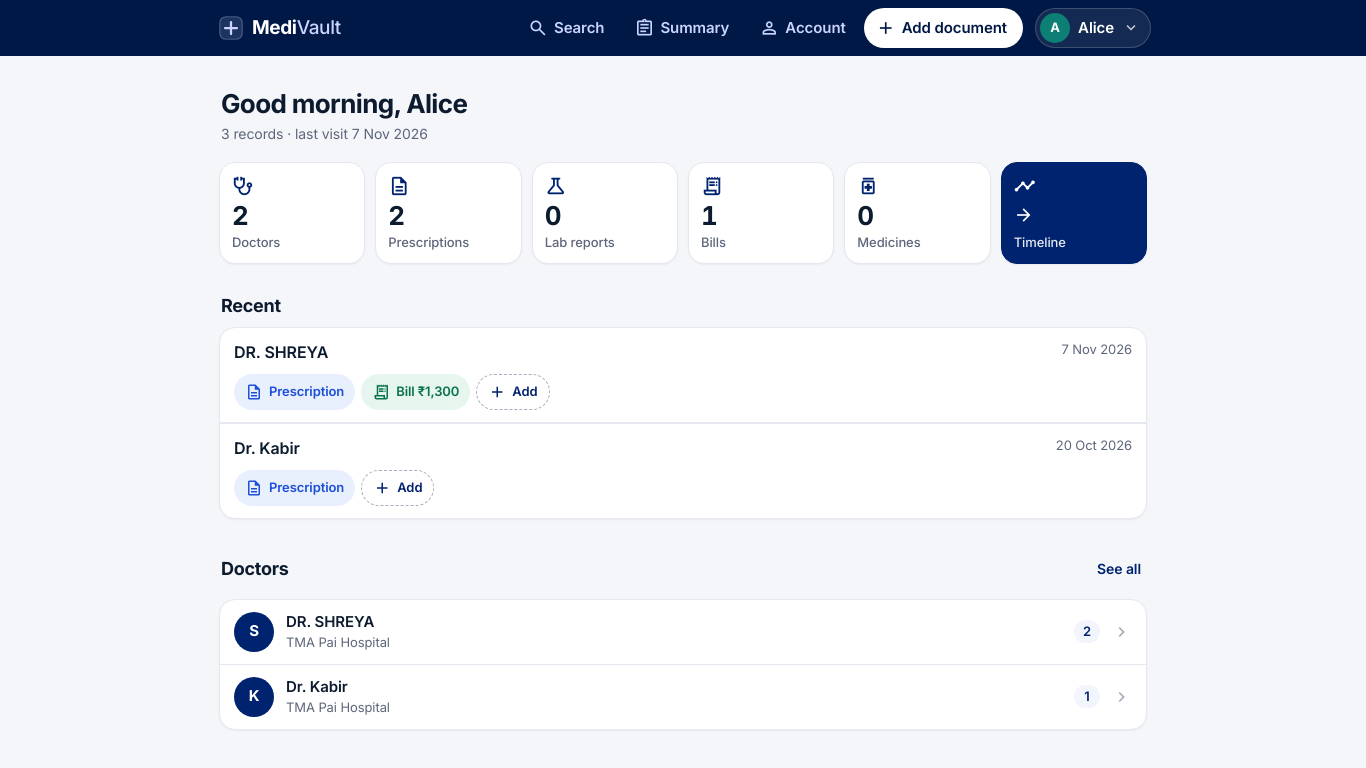
it: an open document shows what else came from the same visit and opens it
What coordinates should you click on to do the following:
click the button with aria-label "prescription, dr. shreya"
I would click on:
 (295, 392)
Its box is left=234, top=374, right=355, bottom=410.
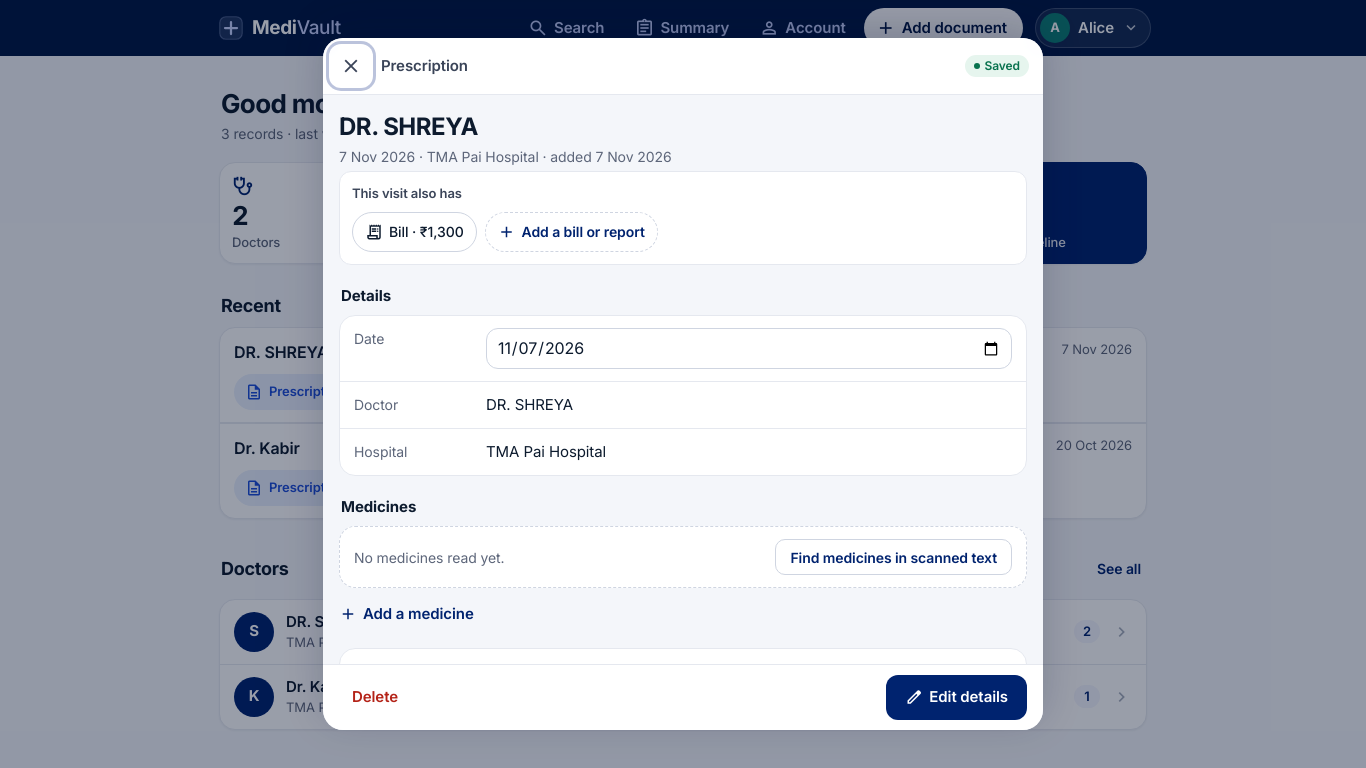
What coordinates should you click on to do the following:
click the button "Bill · ₹1,300"
I would click on:
 (414, 232)
Its box is left=352, top=212, right=477, bottom=252.
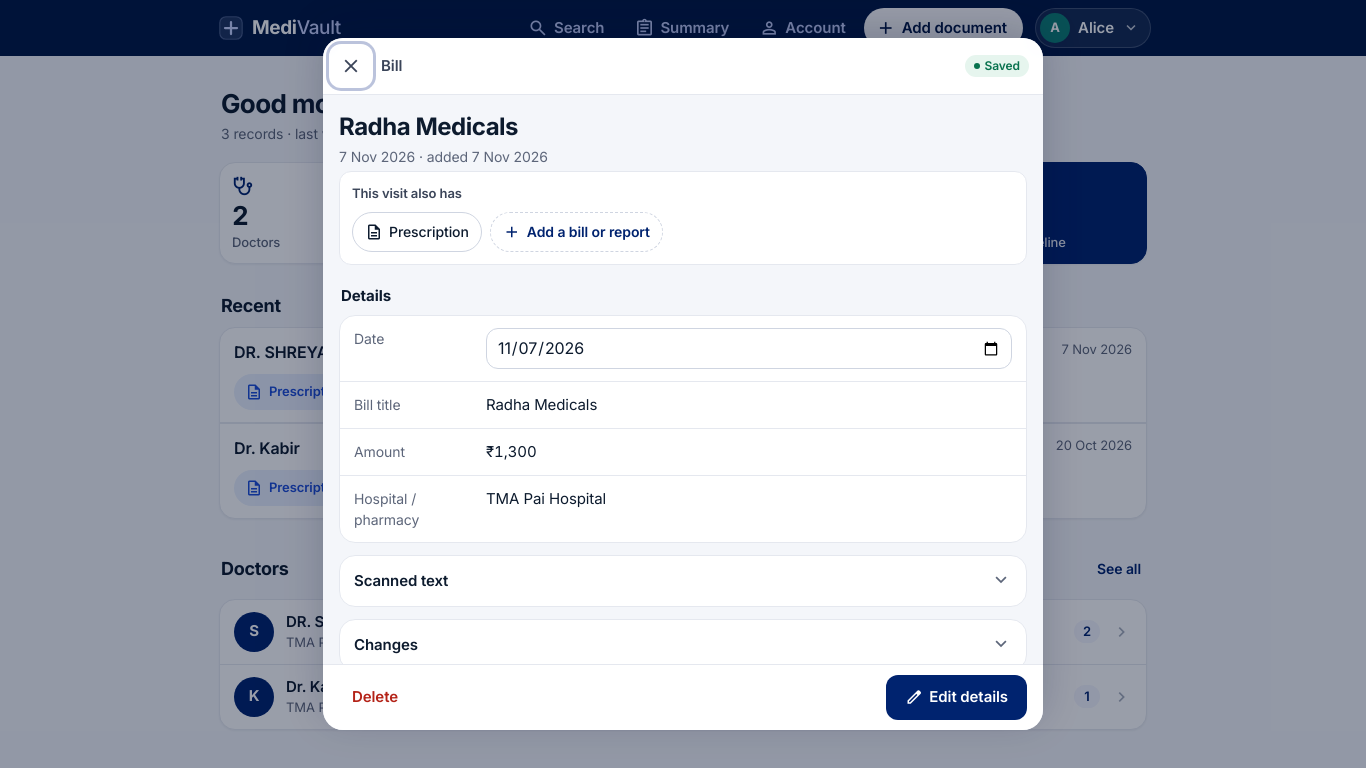
Result: the dialog named "record: radha medicals" is shown at left=323, top=38, right=1043, bottom=730
